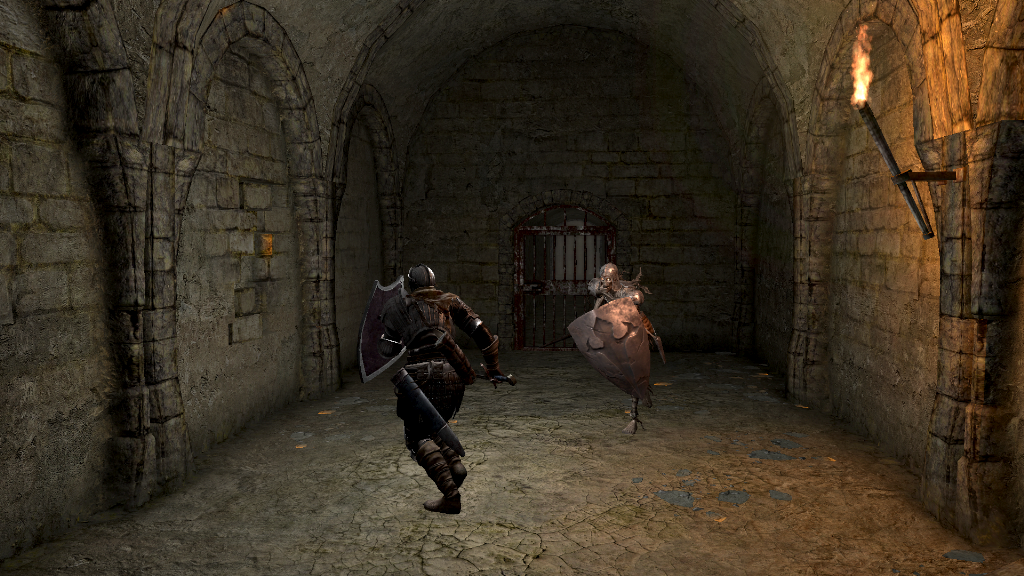player: (355, 262, 520, 517)
undeadSoldier: (575, 262, 668, 435)
